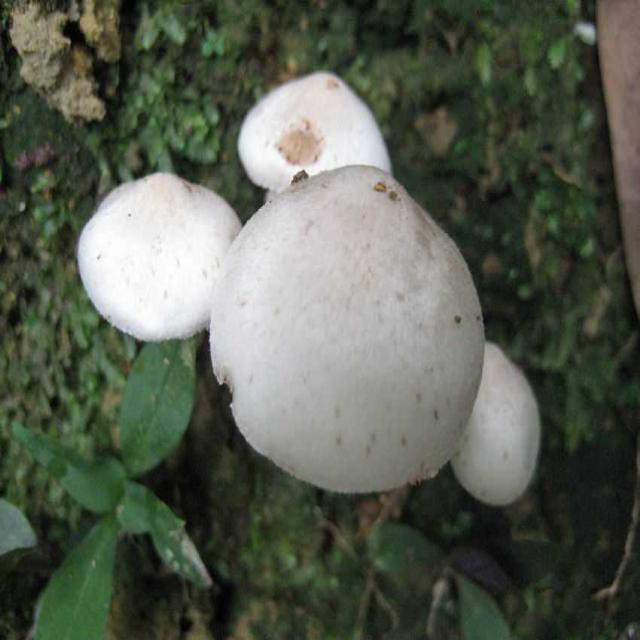Agaricus bisporus: (207, 168, 484, 491), (80, 168, 242, 340), (237, 68, 405, 189)
